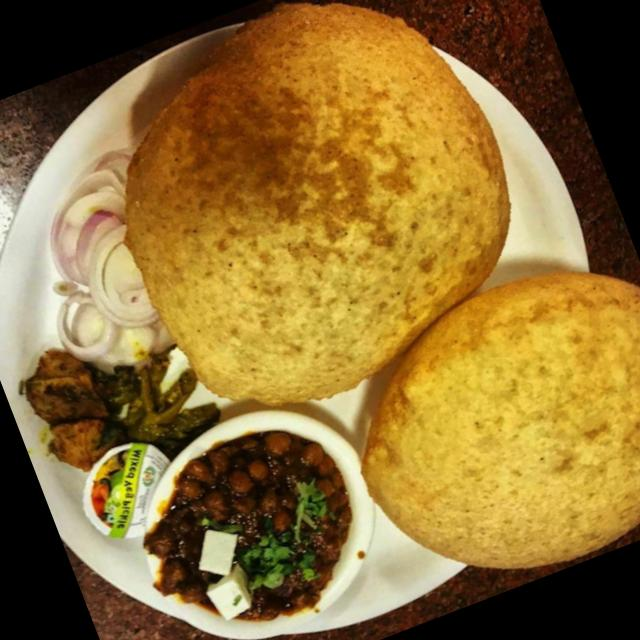Bhatura: (69, 0, 562, 446), (317, 235, 640, 620)
Chole: (121, 405, 388, 640)
